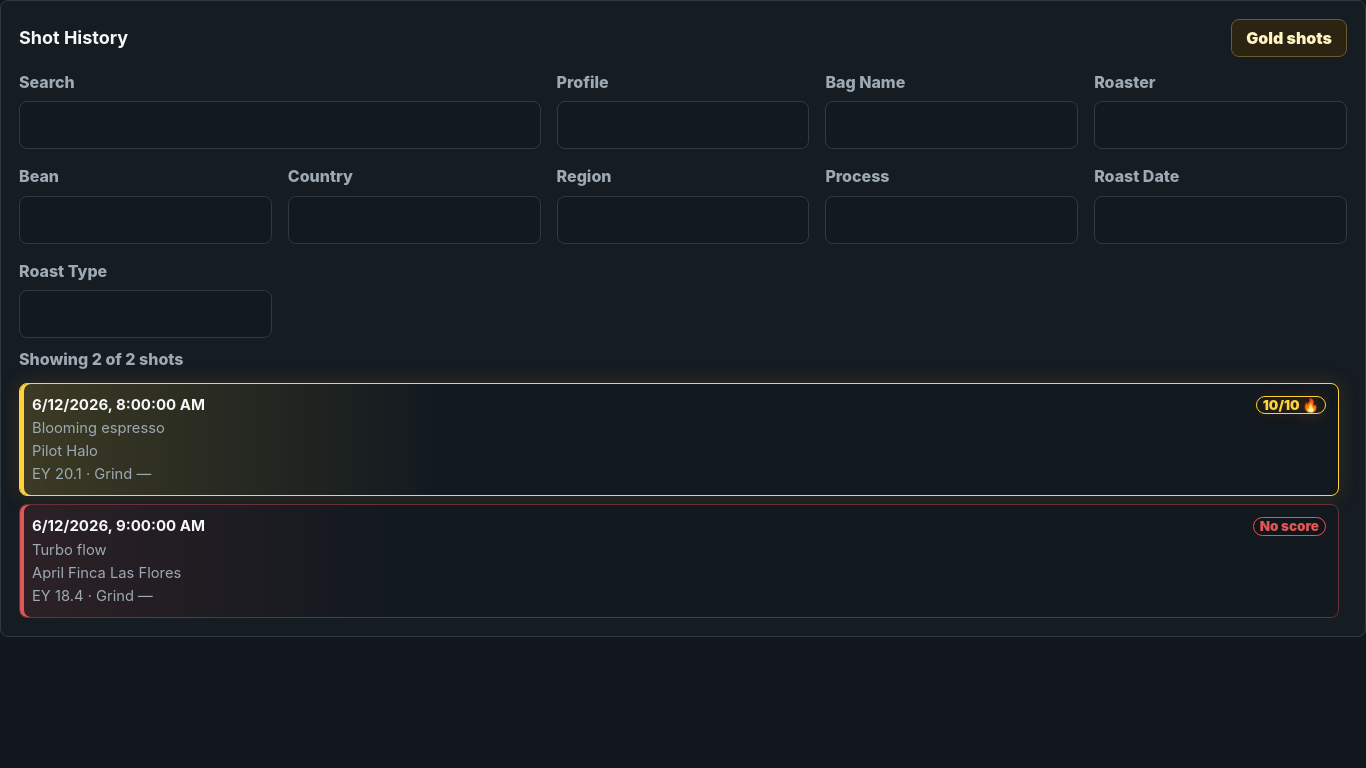
HistoryPage › filters history to golden shots
The image size is (1366, 768).
Expected: the text "Blooming espresso" is shown, x1=32 y1=419 x2=165 y2=437
Expected: the text "Turbo flow" is shown, x1=32 y1=541 x2=106 y2=559
Click the button "Gold shots". click: coordinates (1289, 38)
box: x1=1231 y1=19 x2=1347 y2=57
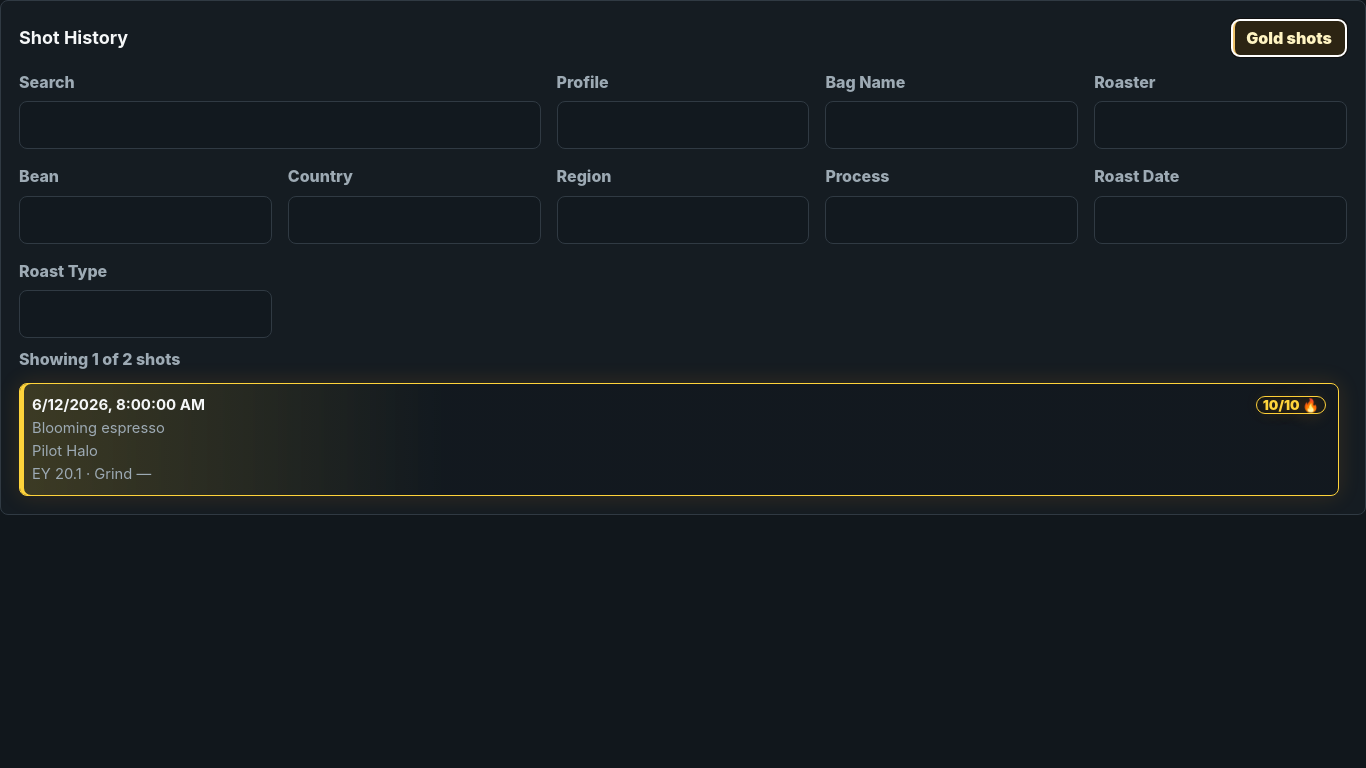
Expected: the text "Blooming espresso" is shown, x1=32 y1=419 x2=165 y2=437
Expected: the button "Turbo flow" is gone
